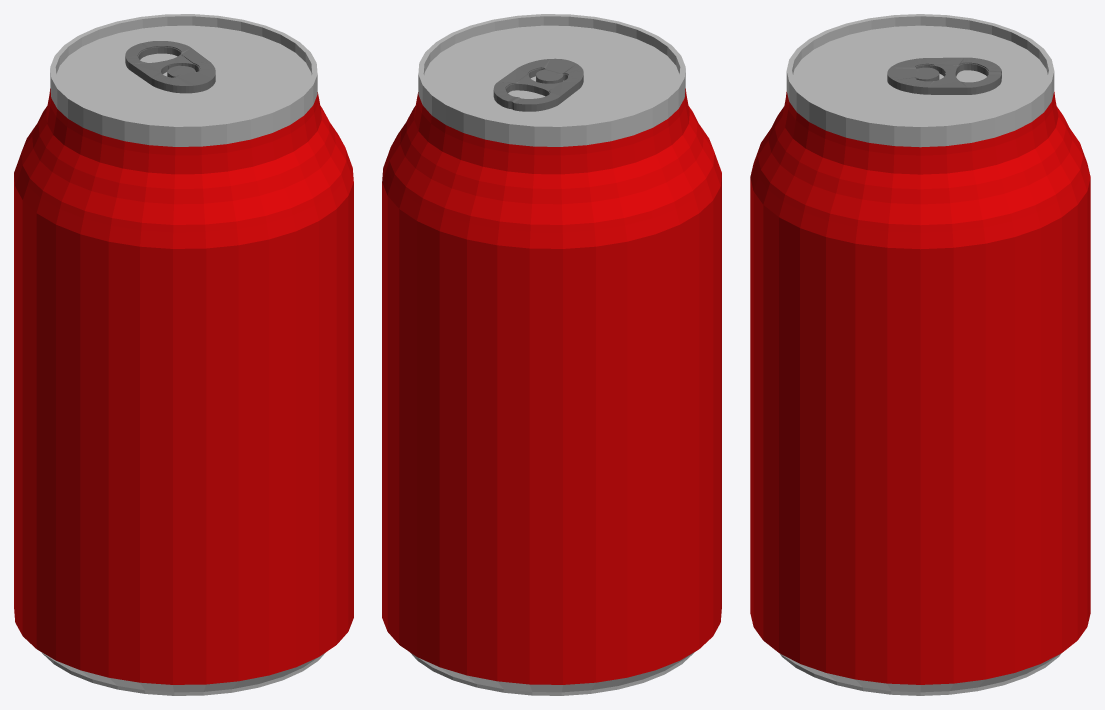
File: Soda Can.fbx
The picture shows the model from 3 angles, left to right: view 1: azimuth 30°, elevation 25°; view 2: azimuth 150°, elevation 25°; view 3: azimuth 270°, elevation 25°; orthographic projection.
Parts seen in each view (by area): view 1: Circle; view 2: Circle; view 3: Circle.
Part boxes in pixels (left/top/right/bottom): Circle: left=14, top=14, right=353, bottom=695; Circle: left=382, top=14, right=721, bottom=695; Circle: left=750, top=14, right=1090, bottom=695.
Bounding box in the file's own units: 9.87 × 17.99 × 9.87.
